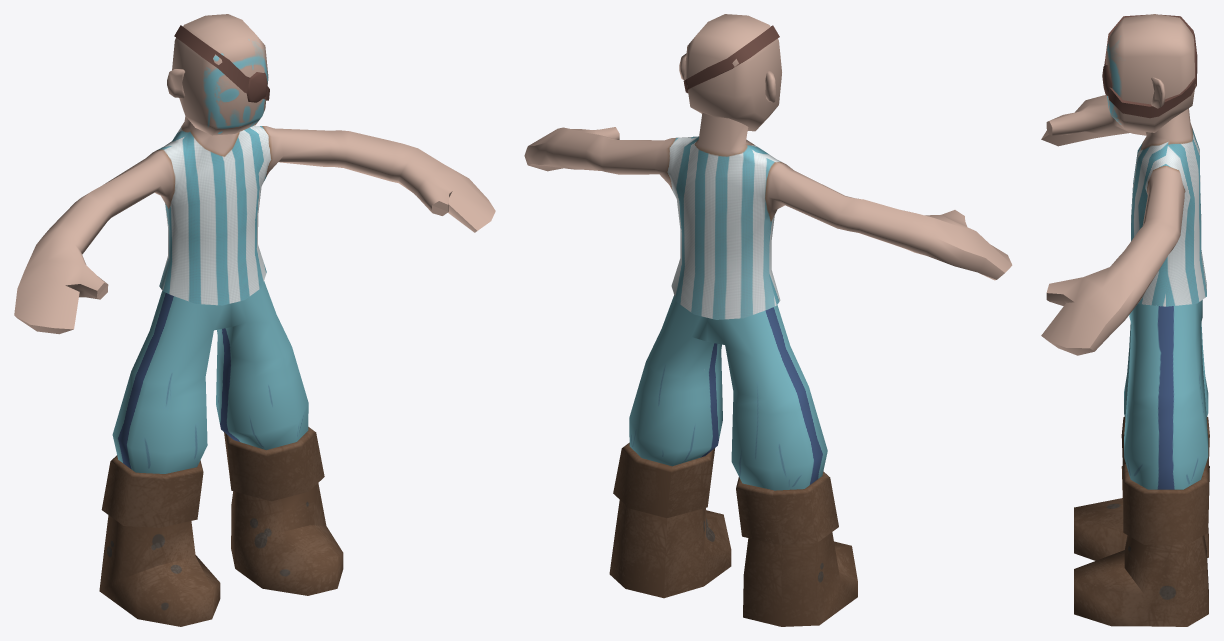
3 views of the same model, side by side, from view 1: azimuth 30°, elevation 25°; view 2: azimuth 150°, elevation 25°; view 3: azimuth 270°, elevation 25° (orthographic).
Parts seen in each view (by area): view 1: Character10, Character13; view 2: Character10, Character13; view 3: Character10, Character13.
Part boxes in pixels (x1,y1,x2,y2): Character10: [14, 14, 495, 626]; Character13: [174, 25, 269, 100]; Character10: [524, 14, 1012, 626]; Character13: [683, 25, 779, 93]; Character10: [1041, 14, 1209, 626]; Character13: [1104, 14, 1197, 118].
Size of the model in its own units: 162 by 182 by 50.07.
Materials: 2 (1 with a texture image).
